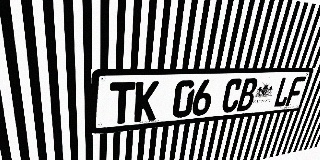0: (171, 80, 196, 118)
6: (191, 79, 215, 116)
B: (236, 78, 259, 111)
C: (220, 78, 244, 113)
F: (285, 76, 306, 106)
K: (134, 81, 159, 122)
L: (272, 77, 294, 108)
T: (109, 82, 135, 125)
